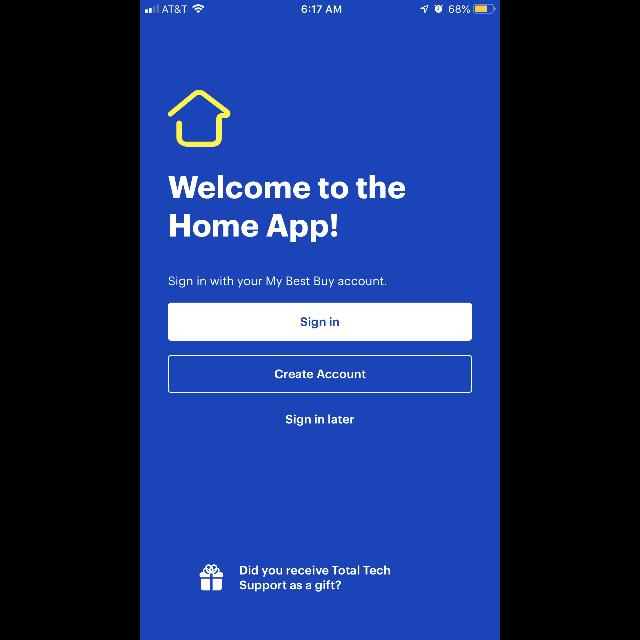icon: (168, 90, 230, 146), (200, 564, 224, 590)
text: (168, 175, 406, 242), (240, 566, 390, 592), (169, 276, 387, 288), (286, 414, 354, 426)
textbutton: (168, 303, 472, 341), (168, 355, 472, 393)
uppertaskbar: (140, 0, 500, 14)
